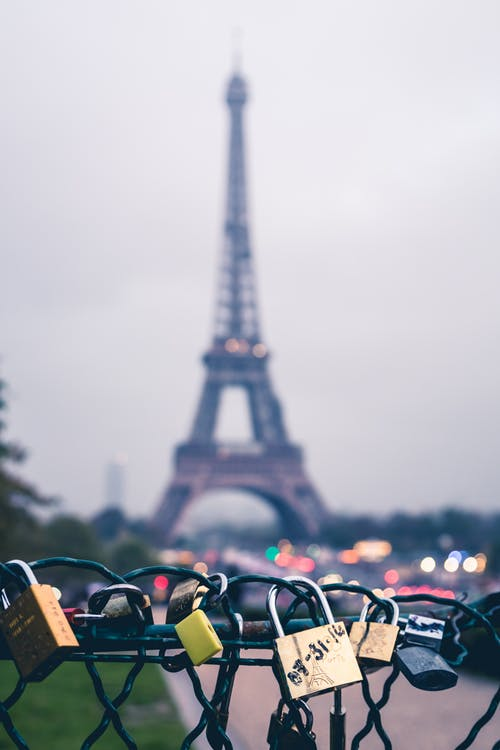eiffel tower: (128, 16, 345, 551)
